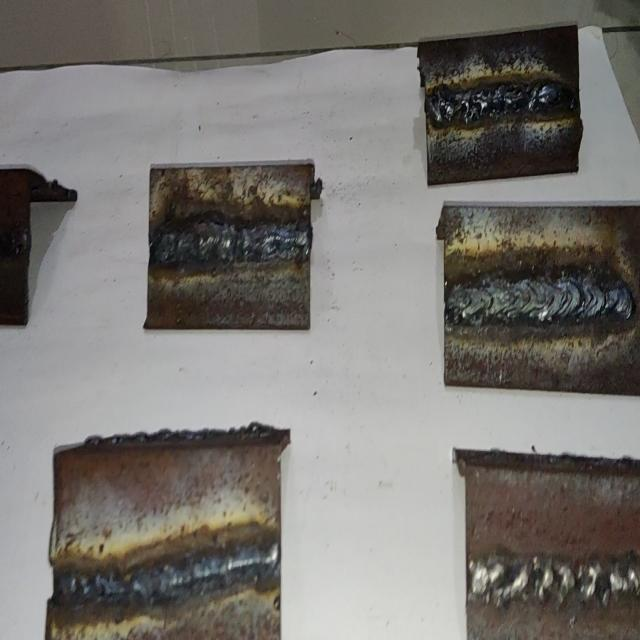Defect: (469, 553, 640, 605), (424, 82, 578, 122)
Welding Line: (57, 542, 278, 612), (467, 554, 640, 606), (446, 279, 634, 324), (426, 82, 581, 130), (150, 219, 310, 263)
Workpiece: (46, 437, 281, 640), (442, 200, 640, 400), (460, 454, 640, 640), (146, 159, 314, 330), (422, 27, 584, 186)
